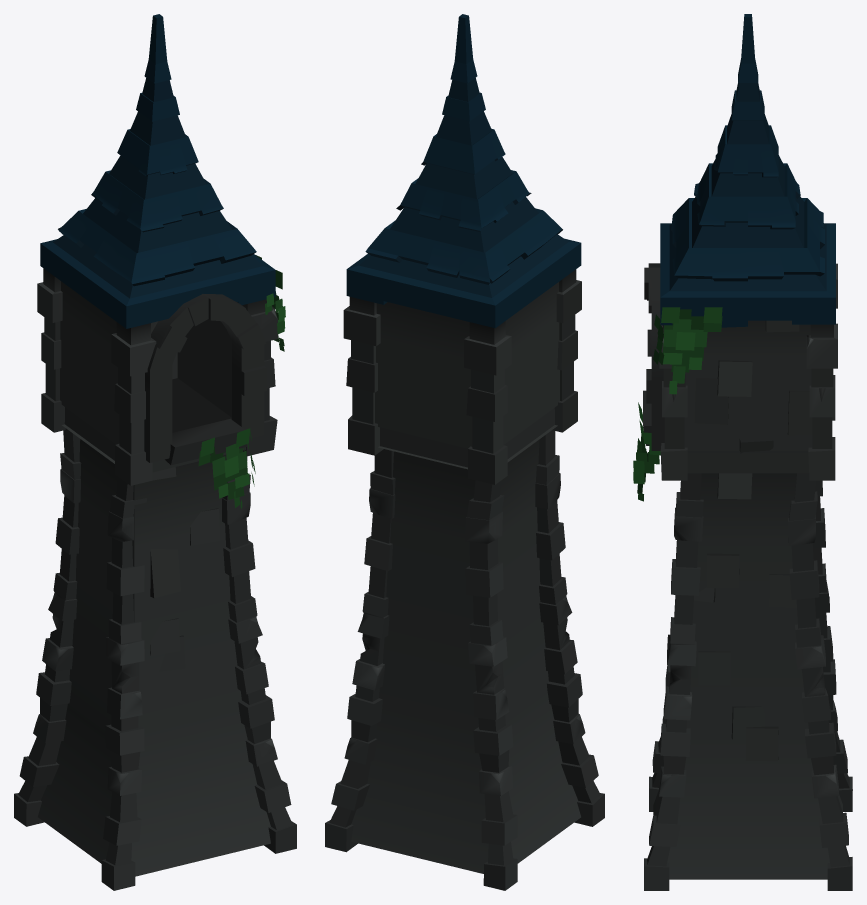
Rendered from Castle02.fbx.
3 views of the same model, side by side, from view 1: azimuth 30°, elevation 25°; view 2: azimuth 150°, elevation 25°; view 3: azimuth 270°, elevation 25° (orthographic). The views are drawn at different scales.
Visible parts, largest first — view 1: polySurface23, polySurface51; view 2: polySurface23, polySurface51; view 3: polySurface23, polySurface51.
Boxes of the visible parts, bbox=[...] form: polySurface23: bbox=[14, 428, 296, 890]; polySurface51: bbox=[37, 14, 285, 508]; polySurface23: bbox=[325, 430, 604, 890]; polySurface51: bbox=[343, 14, 581, 484]; polySurface23: bbox=[644, 473, 852, 890]; polySurface51: bbox=[633, 14, 837, 501].
Bounding box in the file's own units: 11.8 × 50.96 × 12.2.
